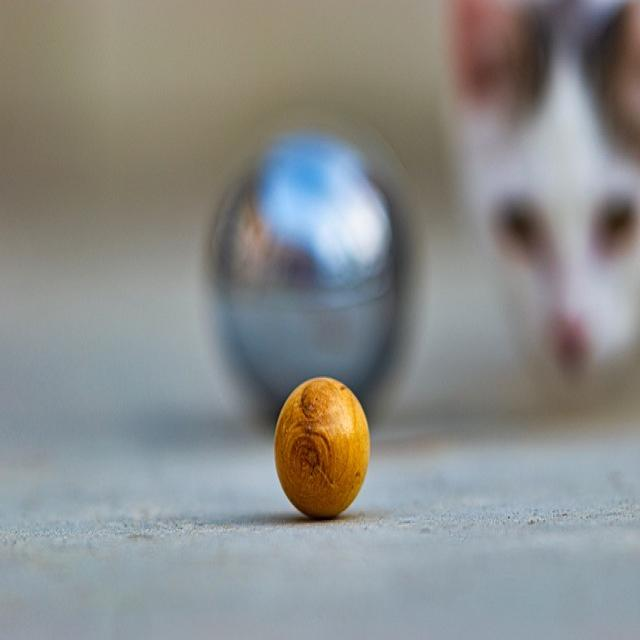hatball: (268, 379, 372, 545)
petanque: (206, 122, 420, 425)
